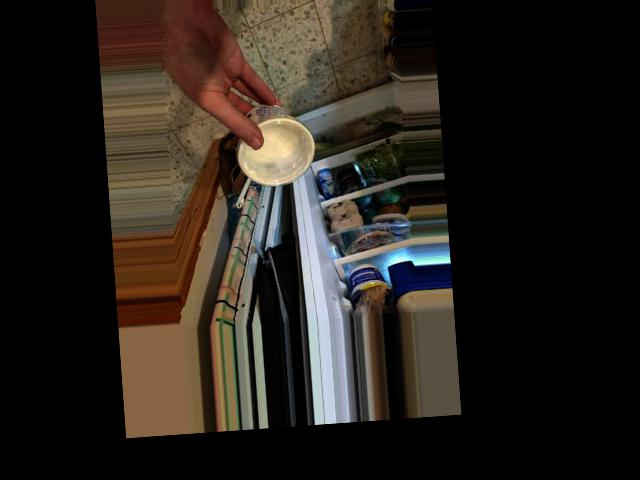cotage: (230, 102, 303, 192)
